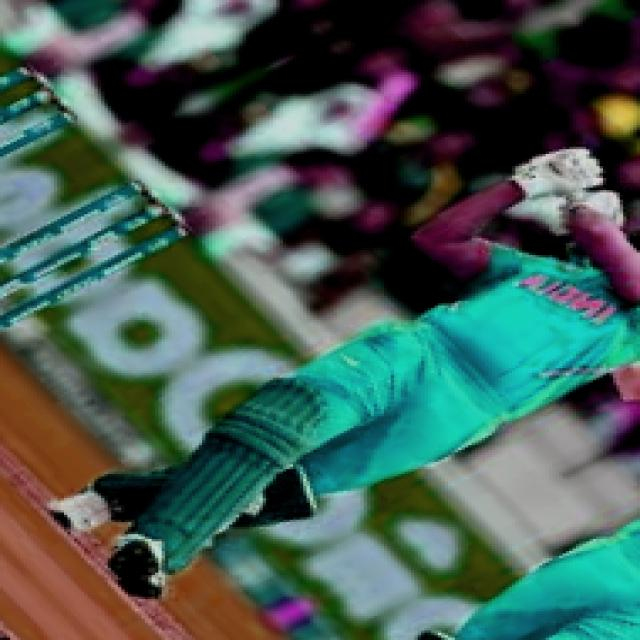toe: (611, 380, 640, 410)
